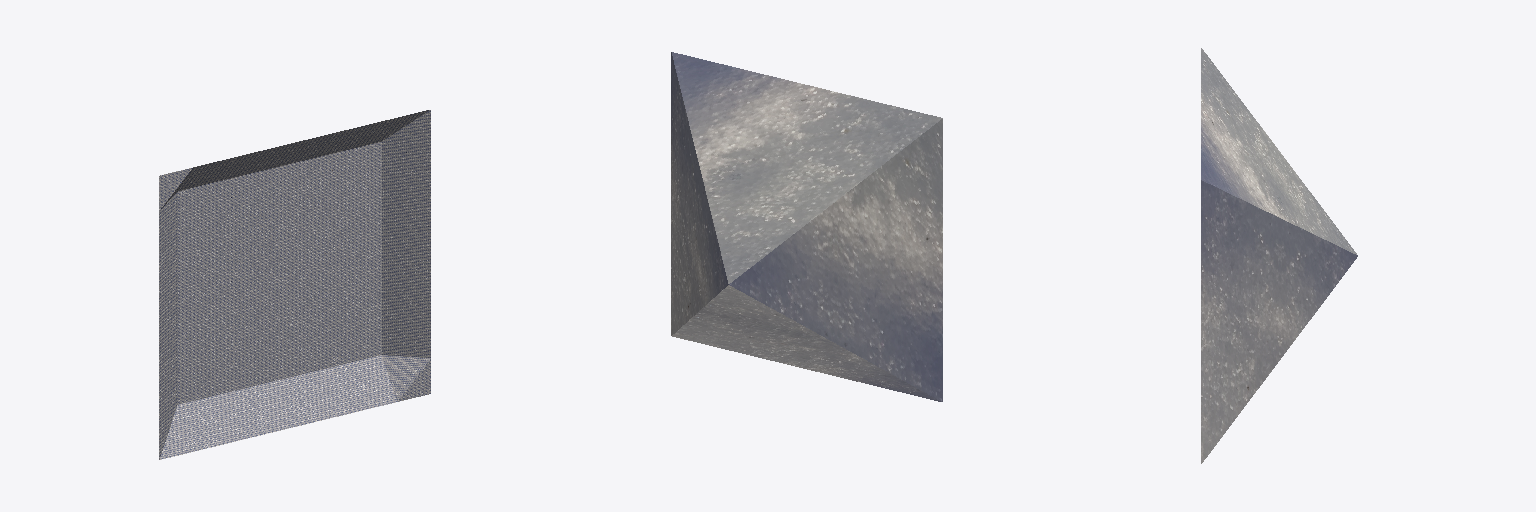
3 views of the same model, side by side, from view 1: azimuth 30°, elevation 25°; view 2: azimuth 150°, elevation 25°; view 3: azimuth 270°, elevation 25° (orthographic).
Parts seen in each view (by area): view 1: Ground.003.003, Ground.002.003, Ground.003.002, Ground.003.001, Ground.001.002, Ground.002.002, Ground.001.003, Ground.003.004, Ground.002.001, Ground.004.003, Ground.001.001, Ground.002.004 (+4 smaller); view 2: Bottom.004, Bottom.003, Bottom.001, Bottom.002; view 3: Bottom.002, Bottom.003.
Part boxes in pixels (bbox=[...]): Ground.003.003: bbox=[348, 320, 430, 409]; Ground.002.003: bbox=[348, 177, 430, 255]; Ground.003.002: bbox=[348, 248, 430, 327]; Ground.003.001: bbox=[280, 328, 362, 426]; Ground.001.002: bbox=[212, 344, 294, 443]; Ground.002.002: bbox=[348, 110, 430, 184]; Ground.001.003: bbox=[212, 273, 279, 360]; Ground.003.004: bbox=[280, 257, 347, 343]; Ground.002.001: bbox=[280, 186, 347, 272]; Ground.004.003: bbox=[212, 202, 279, 289]; Ground.001.001: bbox=[159, 361, 226, 459]; Ground.002.004: bbox=[280, 126, 362, 201]; Bottom.004: bbox=[729, 119, 942, 401]; Bottom.003: bbox=[672, 52, 942, 283]; Bottom.001: bbox=[672, 285, 940, 401]; Bottom.002: bbox=[671, 52, 728, 335]; Bottom.002: bbox=[1201, 180, 1357, 463]; Bottom.003: bbox=[1201, 48, 1356, 254].
Bounding box in the file's own units: 1000 × 1000 × 501.
1 materials, 1 textured.